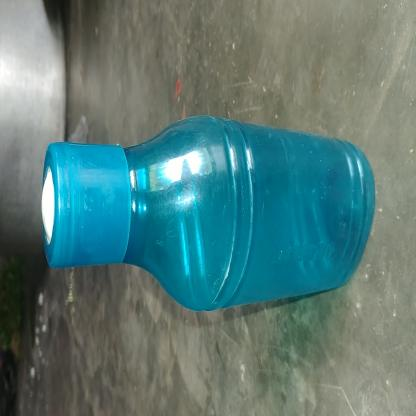bottle: (51, 78, 153, 416)
